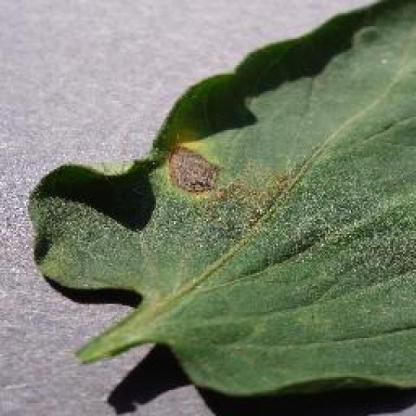Tomato_Blight: (32, 0, 416, 395)
